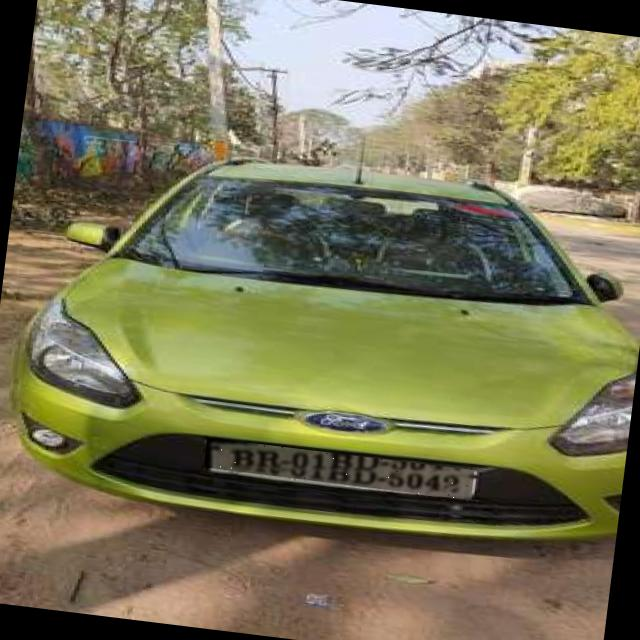Plate: (204, 438, 475, 501)
